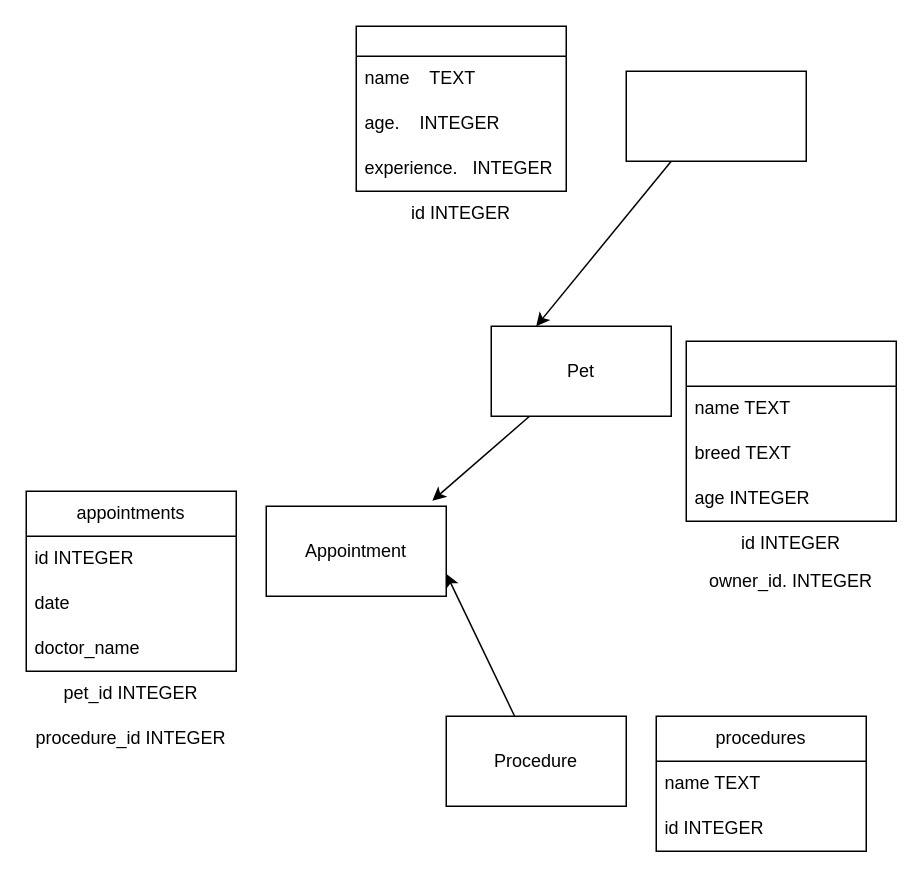
Image size: 923x878. Some labels were removed from this diagram. Here are the shapes that lost their labels. From the top down, the box of each, then its label:
(355, 25, 566, 191): owners
(625, 70, 806, 161): Owner
(685, 340, 896, 521): pets
